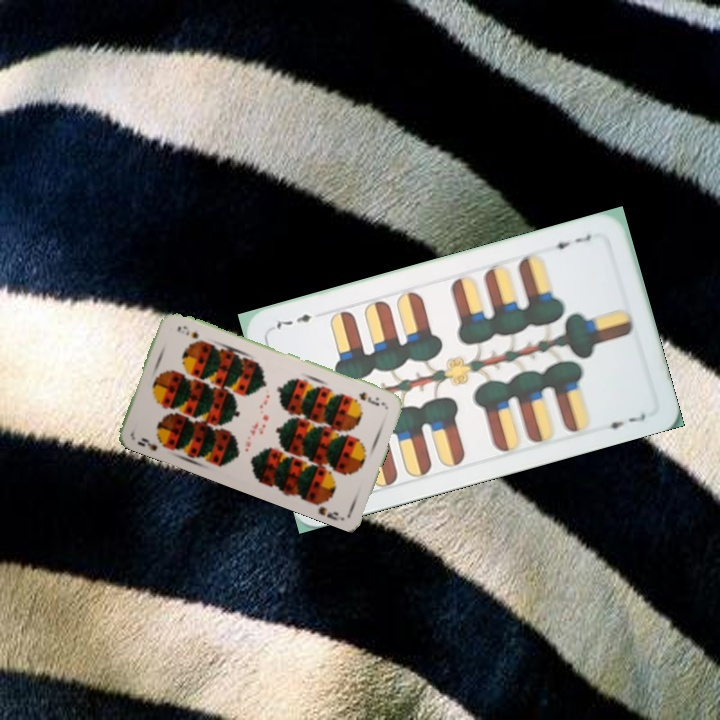E7: (545, 230, 594, 252)
S9: (133, 434, 170, 454), (355, 388, 388, 409)
